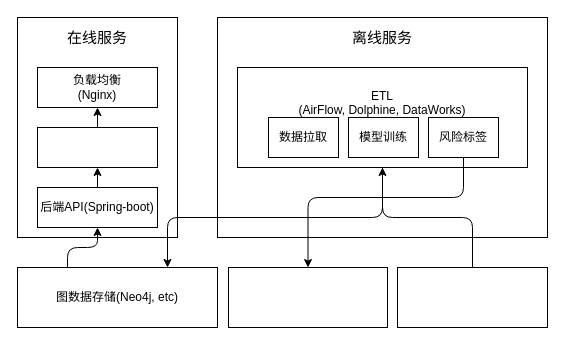
Some shapes in this 565 by 345 pixel diagram are drawn without their labels. Each missing label, with the centre of its shape:
前端应用(react.js): [97,147]
核心镜像库(Oracle, MaxCompute, etc): [472,297]
消息队列(RocketMQ, etc): [308,297]
